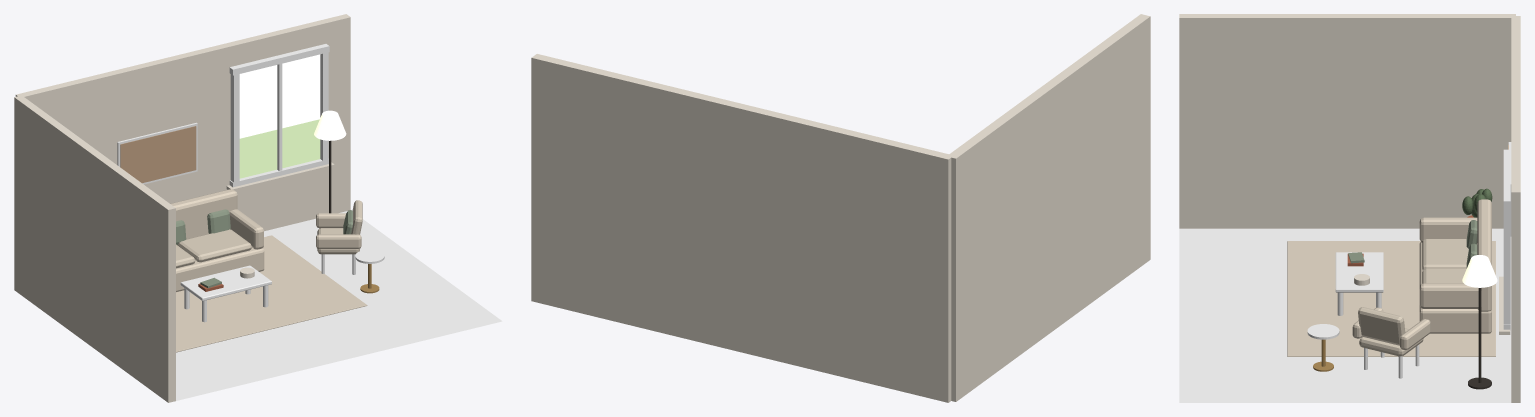
The model's file is oak-and-light.glb.
The picture shows the model from 3 angles, left to right: view 1: azimuth 30°, elevation 25°; view 2: azimuth 150°, elevation 25°; view 3: azimuth 270°, elevation 25°; orthographic projection. The views are drawn at different scales.
Visible parts, largest first — view 1: Side wall, Back wall, Floor, Living rug, Window sky, Art canvas, Window outside, Sofa back, Sofa base, Sofa cushion 1, Coffee top, Window frame side (+11 smaller); view 2: Back wall, Side wall; view 3: Side wall, Floor, Living rug, Back wall, Sofa base, Coffee top, Sofa arm.001, Sofa cushion 0, Armchair back, Sofa arm, Sofa back, Window frame side.001 (+8 smaller).
Boxes of the visible parts, <box> form: Side wall: <box>14,95,175,402</box>; Back wall: <box>15,14,350,231</box>; Floor: <box>176,211,502,400</box>; Living rug: <box>176,235,367,352</box>; Window sky: <box>239,54,320,138</box>; Art canvas: <box>120,126,196,183</box>; Window outside: <box>239,119,320,178</box>; Sofa back: <box>170,189,237,239</box>; Sofa base: <box>176,247,264,291</box>; Sofa cushion 1: <box>177,229,251,262</box>; Coffee top: <box>180,265,271,300</box>; Window frame side: <box>230,65,239,186</box>; Back wall: <box>531,54,953,402</box>; Side wall: <box>947,14,1150,401</box>; Side wall: <box>1179,14,1515,228</box>; Floor: <box>1179,228,1511,402</box>; Living rug: <box>1287,241,1495,356</box>; Back wall: <box>1511,16,1520,402</box>; Sofa base: <box>1419,242,1491,333</box>; Coffee top: <box>1335,252,1383,292</box>; Sofa arm.001: <box>1419,283,1491,308</box>; Sofa cushion 0: <box>1422,239,1468,270</box>; Armchair back: <box>1358,307,1405,345</box>; Sofa arm: <box>1419,217,1477,242</box>; Sofa back: <box>1477,199,1491,311</box>; Window frame side.001: <box>1503,198,1510,324</box>.
Bounding box in the file's own units: 5.26 × 2.9 × 4.26.
